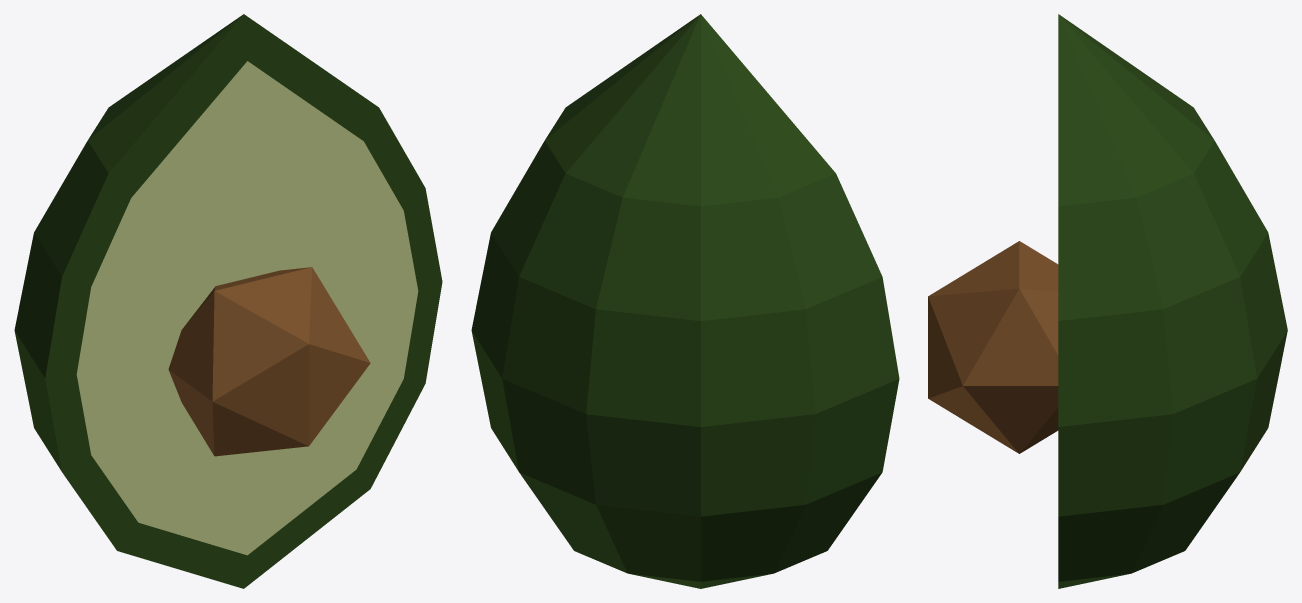
Rendered from avocado-85f504.glb.
The picture shows the model from 3 angles, left to right: view 1: azimuth 30°, elevation 25°; view 2: azimuth 150°, elevation 25°; view 3: azimuth 270°, elevation 25°; orthographic projection.
Size of the model in its own units: 0.094 by 0.13 by 0.0737.
